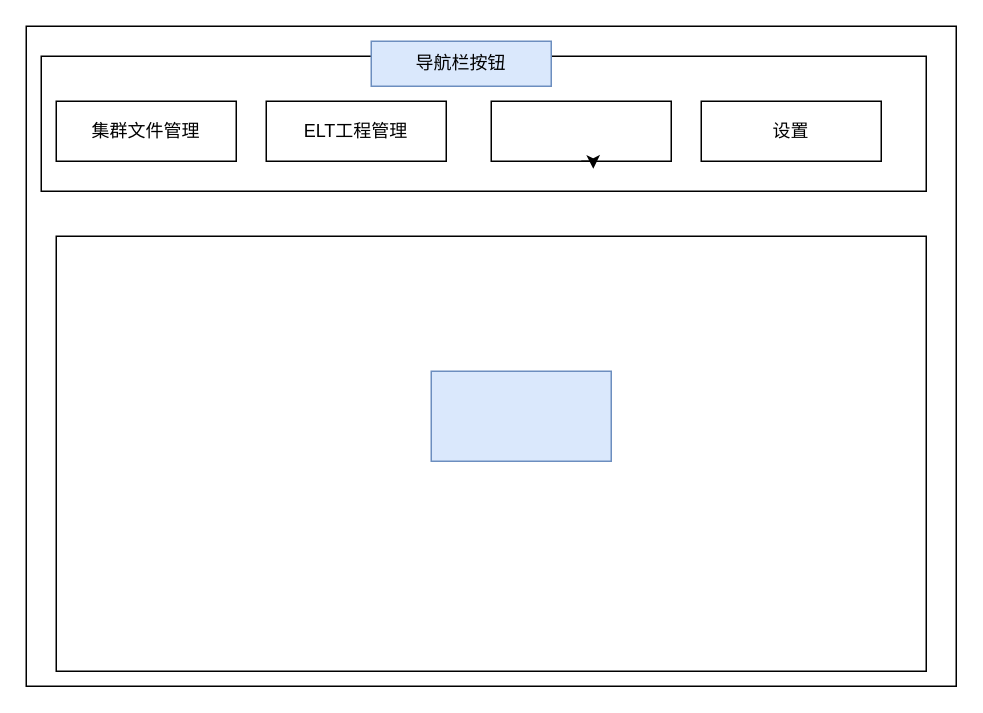
This 983x713 diagram has some shape labels left out. The centre of each missing label's shape, as x and y in pixels:
"子页面" belongs at (520,415).
"数据查询" belongs at (580,130).
